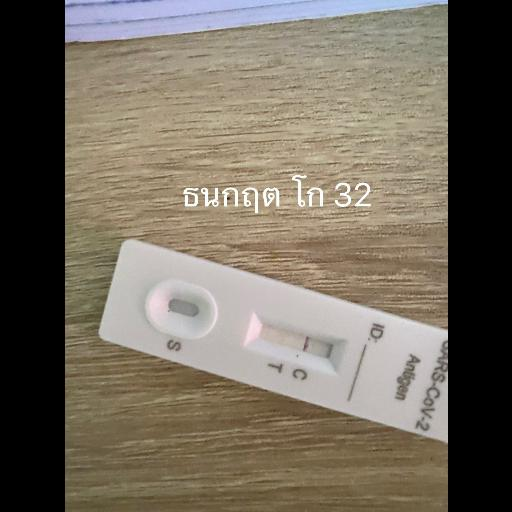Neg: (97, 238, 441, 434)
